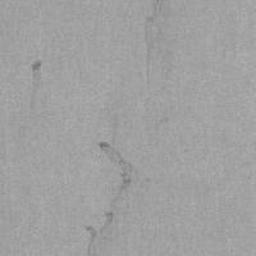Water spot: (86, 141, 132, 256), (145, 0, 162, 86), (31, 60, 42, 107)
